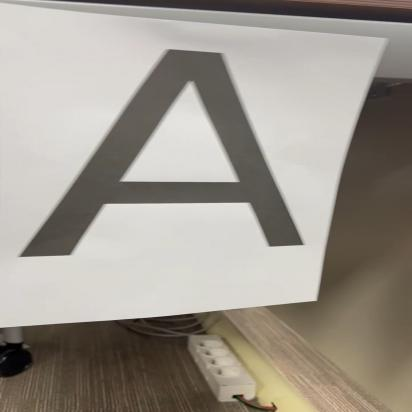seat: (9, 35, 319, 266)
